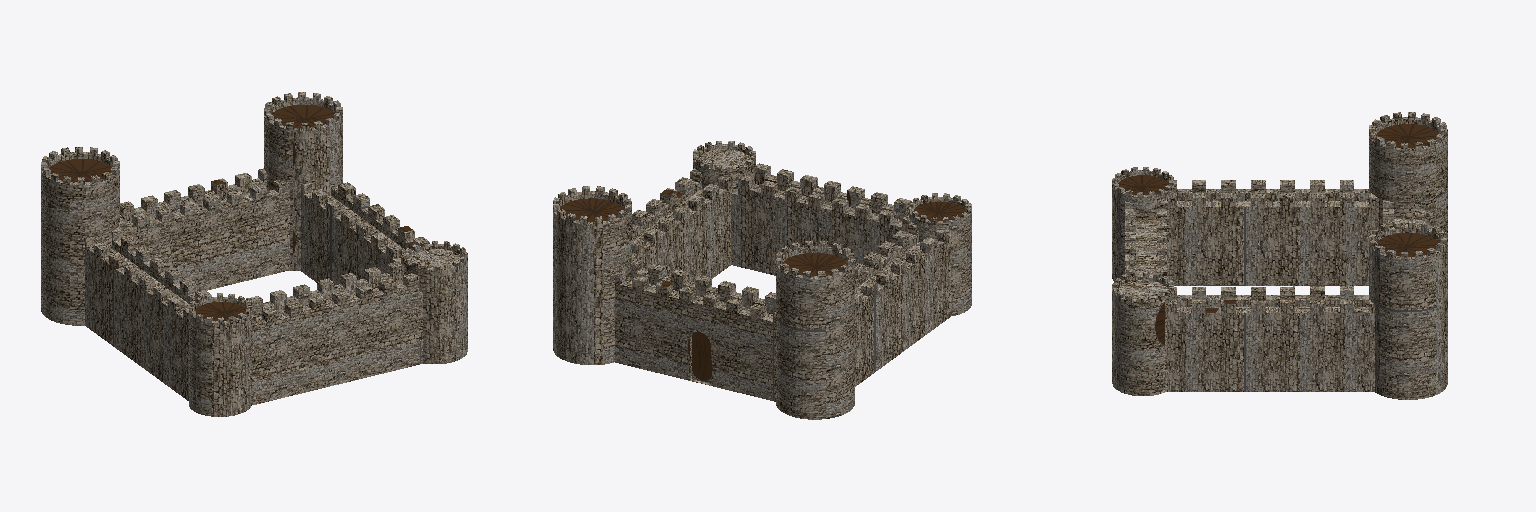
3 renders of one model, left to right at view 1: azimuth 30°, elevation 25°; view 2: azimuth 150°, elevation 25°; view 3: azimuth 270°, elevation 25°, orthographic.
Parts seen in each view (by area): view 1: Castle; view 2: Castle; view 3: Castle.
Boxes of the visible parts, x1,y1,x2,y2 form: Castle: [41, 92, 467, 416]; Castle: [553, 141, 971, 419]; Castle: [1112, 112, 1447, 399].
Size of the model in its own units: 8.52 by 4.08 by 8.49.
1 materials, 1 textured.